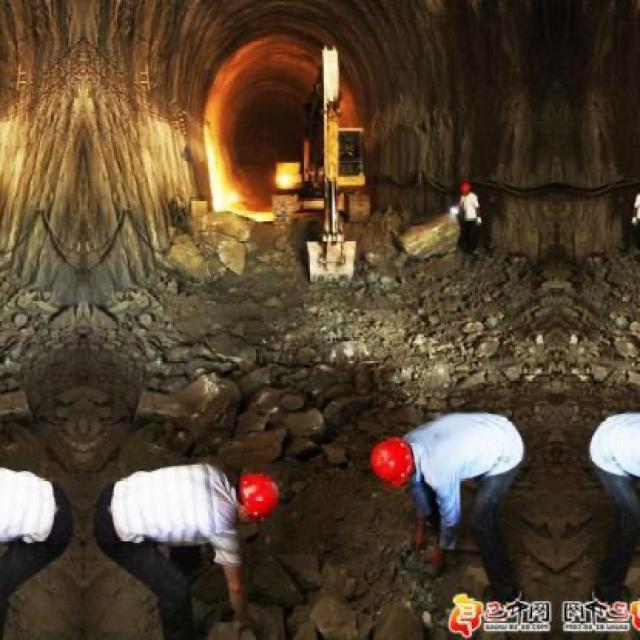helmet: (370, 438, 417, 489), (233, 471, 279, 523), (453, 174, 472, 197)
